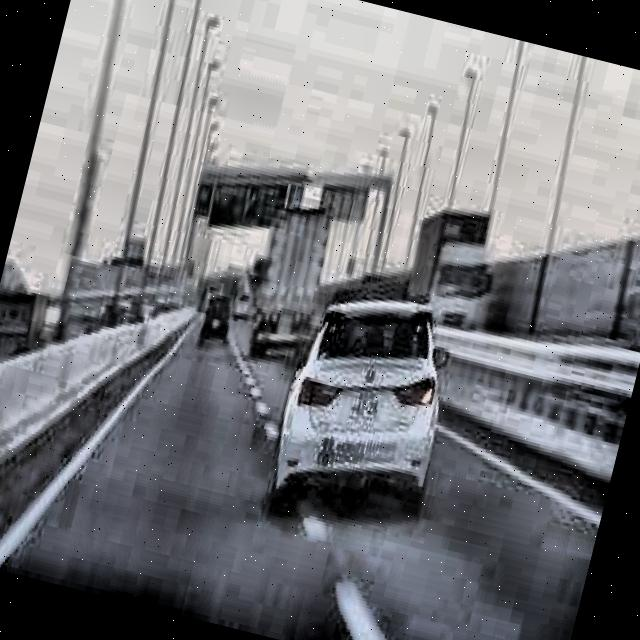license_plate: (346, 383, 384, 426)
